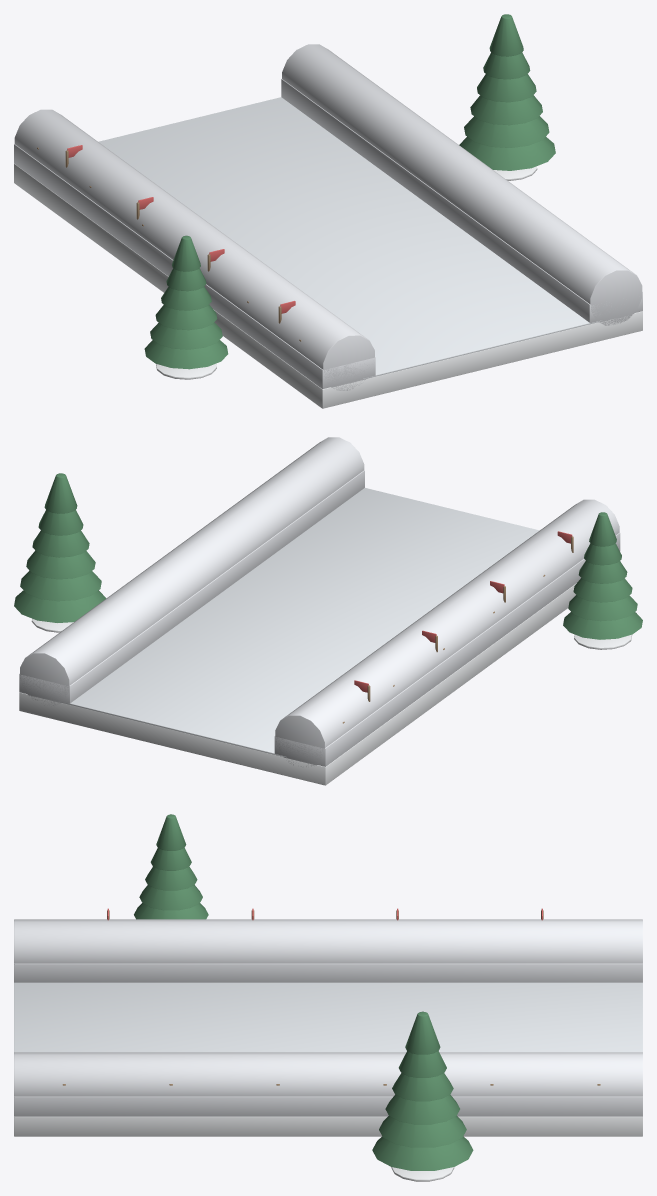
File: th29_rodelhang.glb
3 renders of one model, top to bottom at view 1: azimuth 30°, elevation 25°; view 2: azimuth 150°, elevation 25°; view 3: azimuth 270°, elevation 25°, orthographic. The views are drawn at different scales.
Visible parts, largest first — view 1: Cube.001, Cylinder.001, Cylinder, Cube, Cube.002, Cube.003, Cone.006, Cone.007, Cone, Cone.008, Cone.001, Cone.009 (+7 smaller); view 2: Cube.001, Cylinder.001, Cylinder, Cube, Cube.003, Cube.002, Cone.006, Cone.007, Cone, Cone.008, Cone.001, Cone.009 (+7 smaller); view 3: Cube.001, Cylinder, Cylinder.001, Cube.002, Cube.003, Cube, Cone.006, Cone.007, Cone.008, Cone.009, Cone.002, Cone.011 (+6 smaller).
Part boxes in pixels (left/top/right/bottom): Cube.001: left=98, top=97, right=602, bottom=378; Cylinder.001: left=282, top=44, right=642, bottom=325; Cylinder: left=14, top=109, right=374, bottom=390; Cube: left=14, top=163, right=642, bottom=408; Cube.002: left=14, top=144, right=375, bottom=389; Cube.003: left=281, top=79, right=642, bottom=323; Cone.006: left=459, top=136, right=555, bottom=170; Cone.007: left=464, top=116, right=549, bottom=147; Cone: left=144, top=340, right=228, bottom=369; Cone.008: left=470, top=95, right=542, bottom=125; Cone.001: left=150, top=322, right=222, bottom=349; Cone.009: left=477, top=74, right=536, bottom=102; Cube.001: left=57, top=488, right=539, bottom=757; Cylinder.001: left=20, top=437, right=364, bottom=705; Cylinder: left=275, top=499, right=619, bottom=766; Cube: left=19, top=551, right=620, bottom=785; Cube.003: left=19, top=470, right=364, bottom=703; Cube.002: left=274, top=532, right=620, bottom=766; Cone.006: left=14, top=590, right=106, bottom=622; Cone.007: left=20, top=570, right=101, bottom=601; Cone: left=563, top=612, right=642, bottom=639; Cone.008: left=26, top=550, right=95, bottom=579; Cone.001: left=568, top=595, right=637, bottom=621; Cone.009: left=32, top=530, right=89, bottom=557; Cube.001: left=14, top=982, right=642, bottom=1052; Cylinder: left=14, top=919, right=642, bottom=963; Cylinder.001: left=14, top=1052, right=642, bottom=1096; Cube.002: left=14, top=963, right=642, bottom=982; Cube.003: left=14, top=1096, right=642, bottom=1116; Cube: left=14, top=1116, right=642, bottom=1136; Cone.006: left=372, top=1136, right=473, bottom=1170; Cone.007: left=379, top=1116, right=466, bottom=1147; Cone.008: left=385, top=1094, right=459, bottom=1124; Cone.009: left=392, top=1073, right=453, bottom=1101; Cone.002: left=139, top=885, right=202, bottom=910; Cone.011: left=405, top=1011, right=440, bottom=1054.
Size of the model in its own units: 19.51 by 5.44 by 20.
